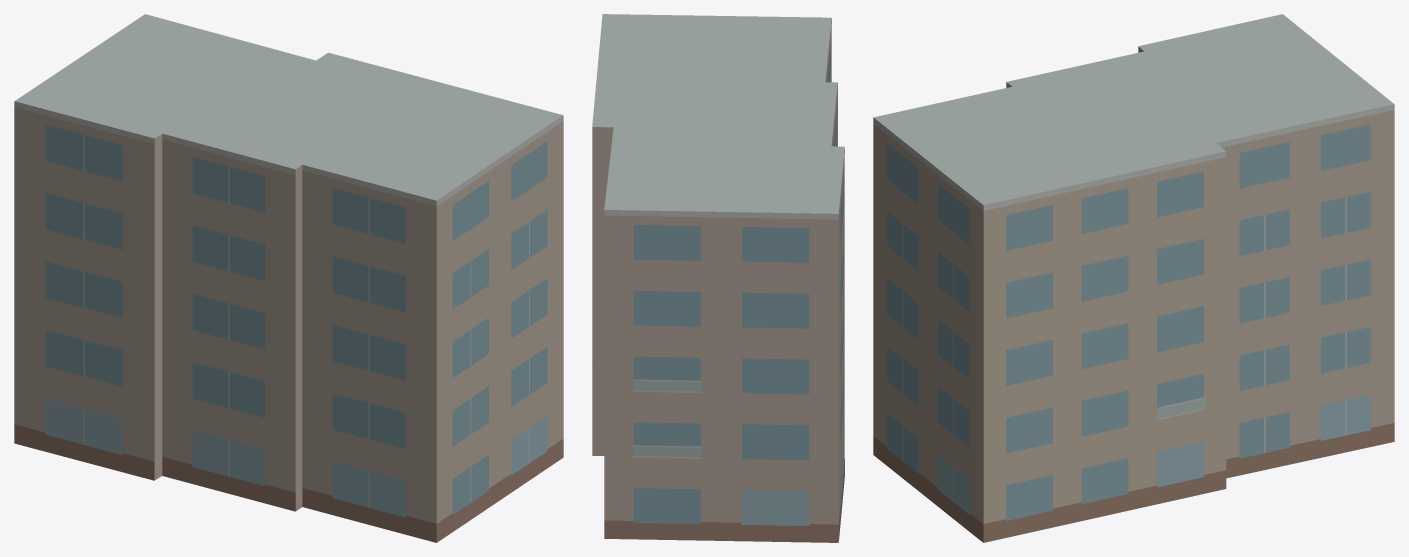
Rendered from survey-upis-32527564.glb.
3 renders of one model, left to right at view 1: azimuth 30°, elevation 25°; view 2: azimuth 150°, elevation 25°; view 3: azimuth 270°, elevation 25°, orthographic. The views are drawn at different scales.
Parts seen in each view (by area): view 1: survey-upis-32527564.tmp; view 2: survey-upis-32527564.tmp; view 3: survey-upis-32527564.tmp.
Boxes of the visible parts, x1,y1,x2,y2 form: survey-upis-32527564.tmp: (14,14,563,542); survey-upis-32527564.tmp: (592,14,844,542); survey-upis-32527564.tmp: (873,14,1394,542).
Bounding box in the file's own units: 17.39 × 14.3 × 20.01.
